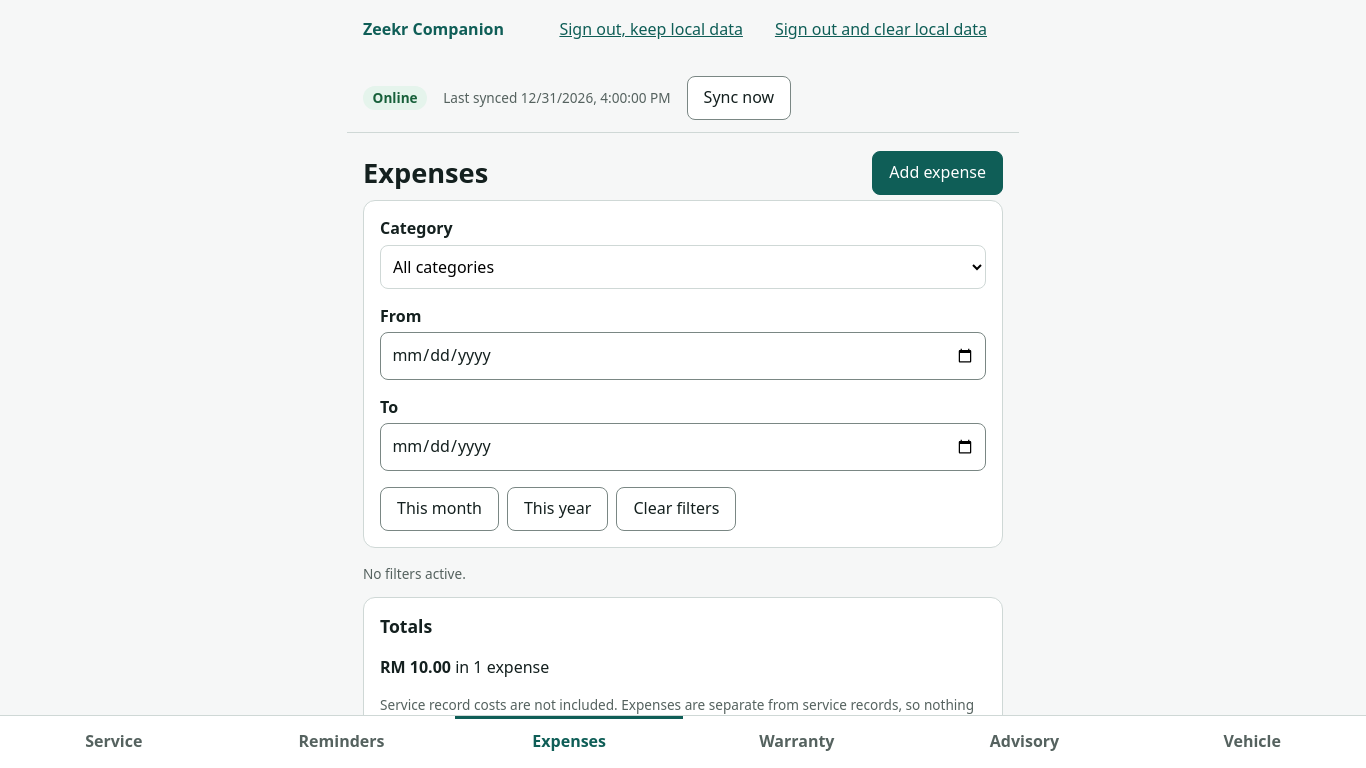
it: QA list, filters and totals in the UI › "This year" on 1 Jan KL (16:00Z on 31 Dec) starts on 2027-01-01
Click the button "This year" at (558, 509), box [507,487,608,531]
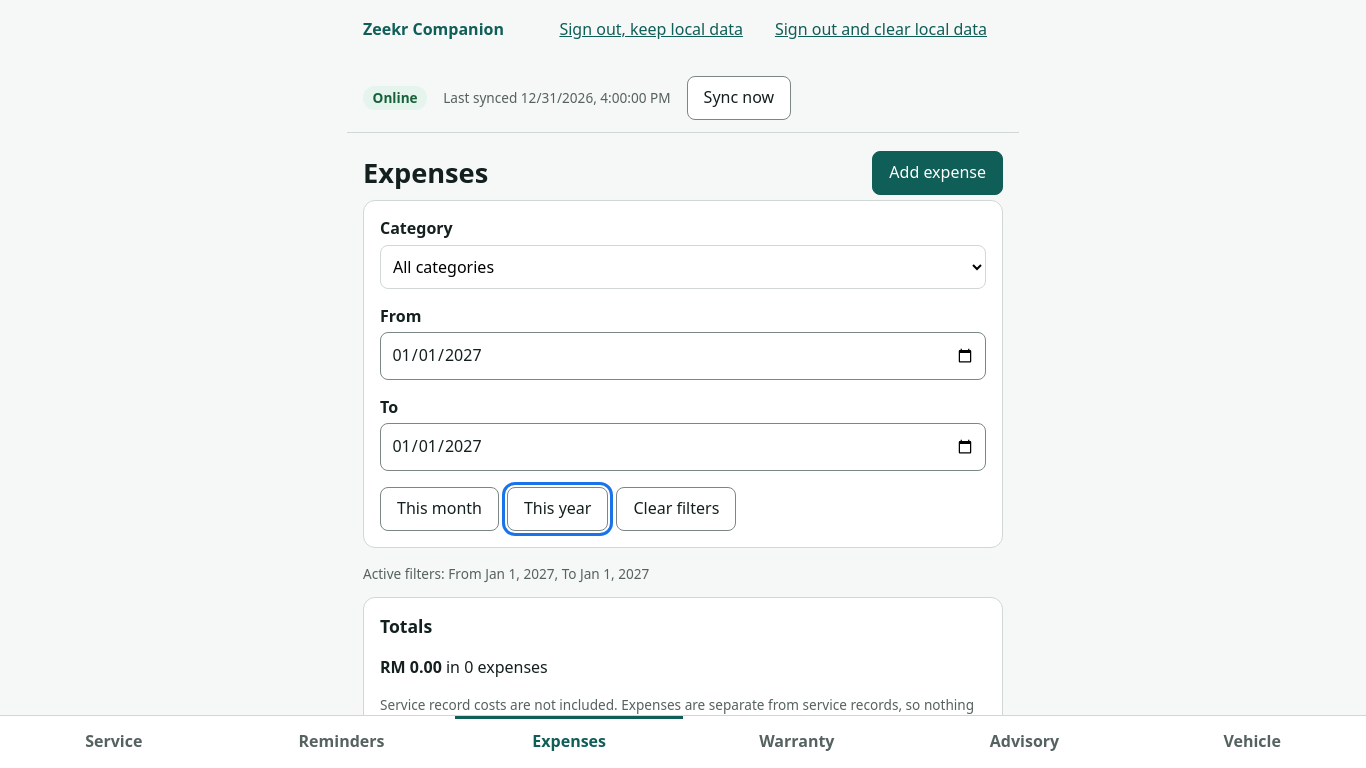
Expected: the date field labelled "From" holds "2027-01-01", [380,332,986,380]
Expected: the date field labelled "To" holds "2027-01-01", [380,423,986,471]
